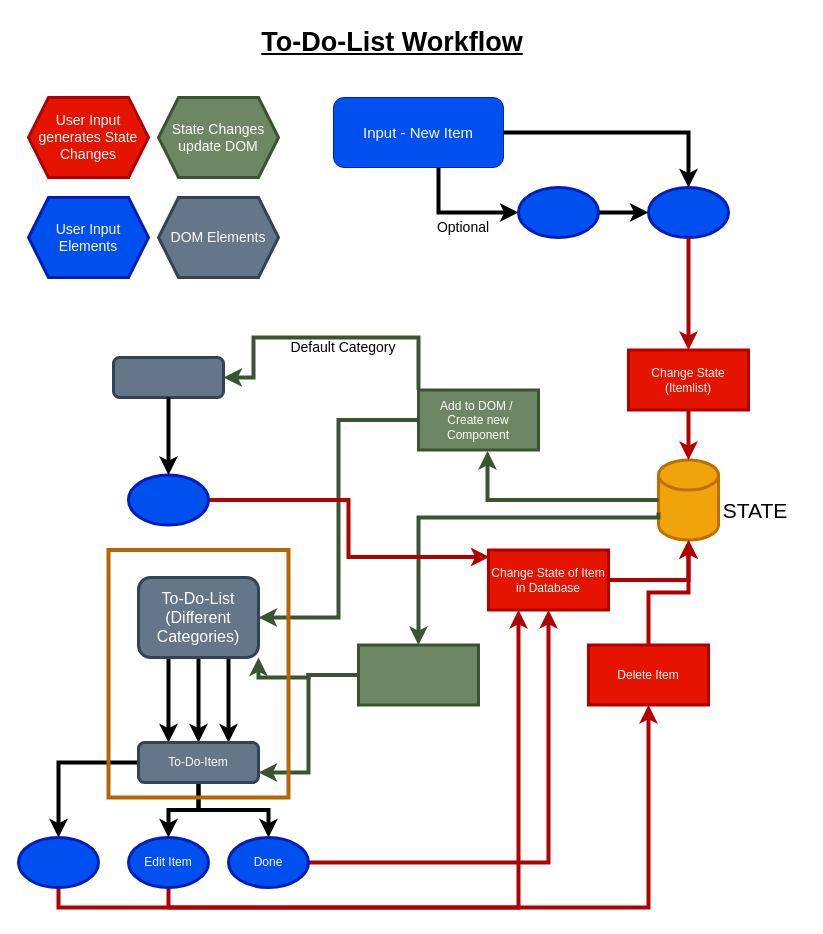
This 823x934 diagram has some shape labels left out. The shapes that lost their labels are listed below. From the top down, each one's box as (x1, y1, x2, y2) in pixels, then its label:
(516, 186, 600, 238): Choose Category
(646, 186, 730, 238): Create Item
(112, 356, 224, 398): Inbox
(126, 473, 210, 526): Delegate Item
(656, 458, 720, 541): Items
(356, 643, 480, 706): Update new Item State in DOM Object
(16, 836, 100, 888): Trash
